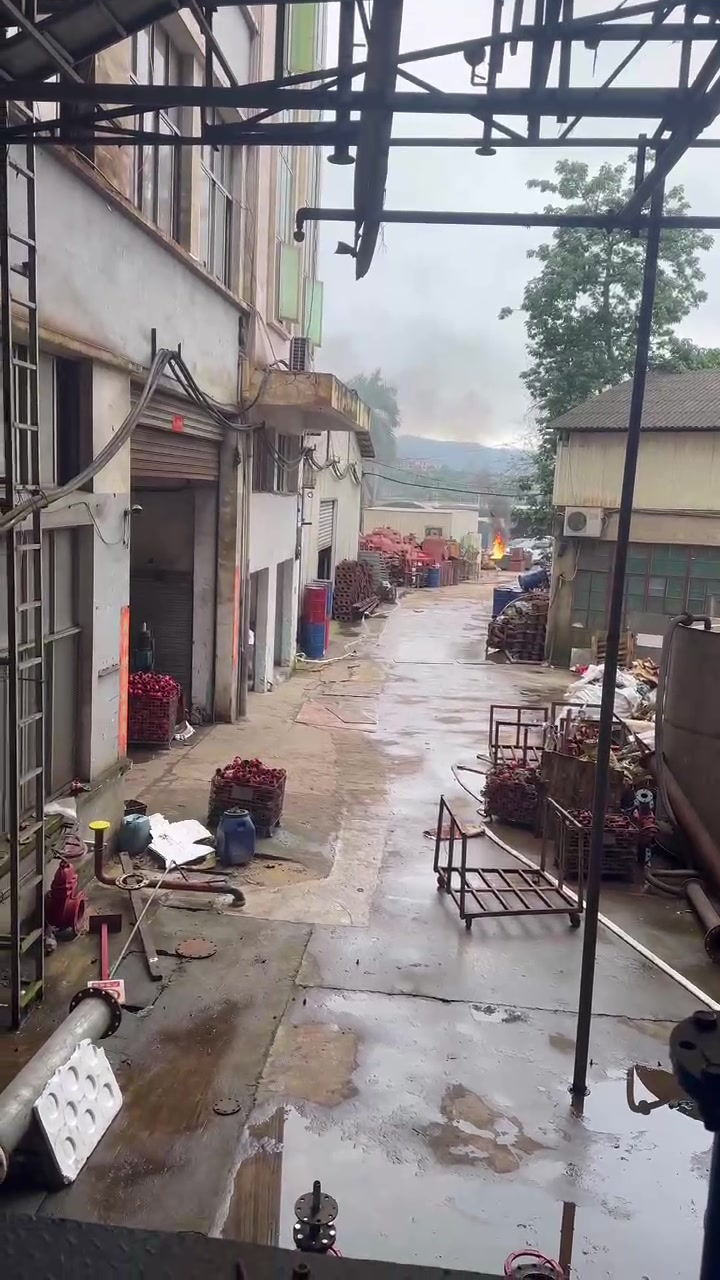fire: (489, 534, 505, 558)
